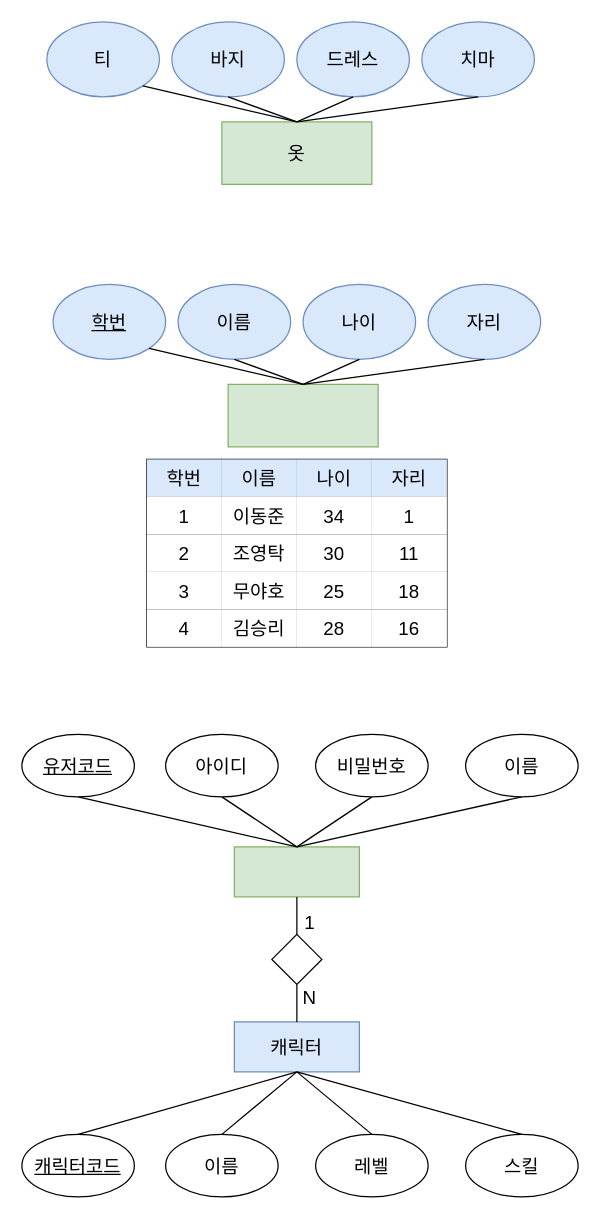
The diagram is 600 pixels wide and 1219 high, and some of its shapes have lost their labels. Each missing label, with the box of its shape:
소유: (271, 933, 322, 984)
유저: (233, 846, 359, 897)
학생: (227, 383, 378, 447)
